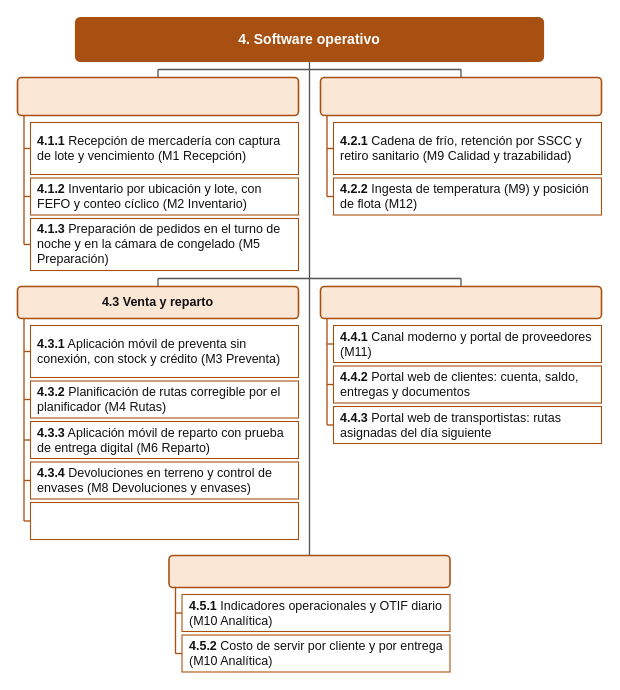
Some shapes in this 620 by 690 pixel diagram are drawn without their labels. Here are the shapes that lost their labels. From the top down, the centre of each, then its label:
the point at 157,96: 4.1 Bodega: recepción, inventario y preparación
the point at 460,96: 4.2 Calidad y cadena de frío
the point at 460,302: 4.4 Canal moderno y portales
the point at 164,521: 4.3.5 Cobro en ruta, rendición y conciliación (M7 Cobranza y rendición)
the point at 309,571: 4.5 Analítica (M10)
